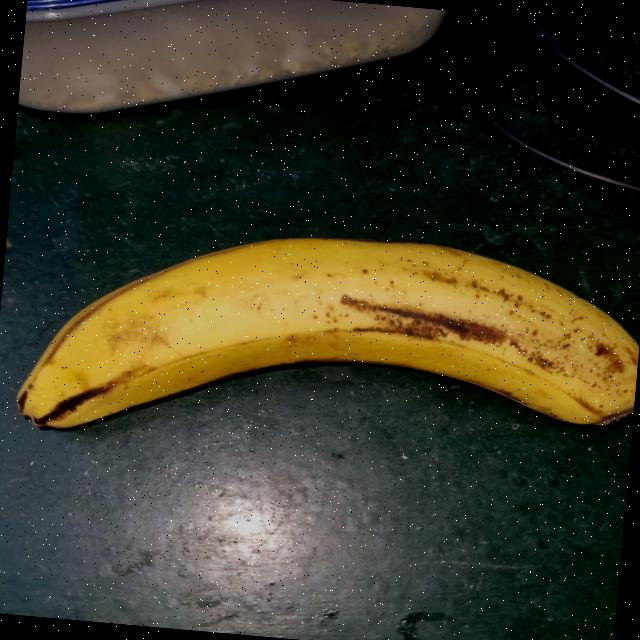Overripe: (0, 168, 640, 517)
